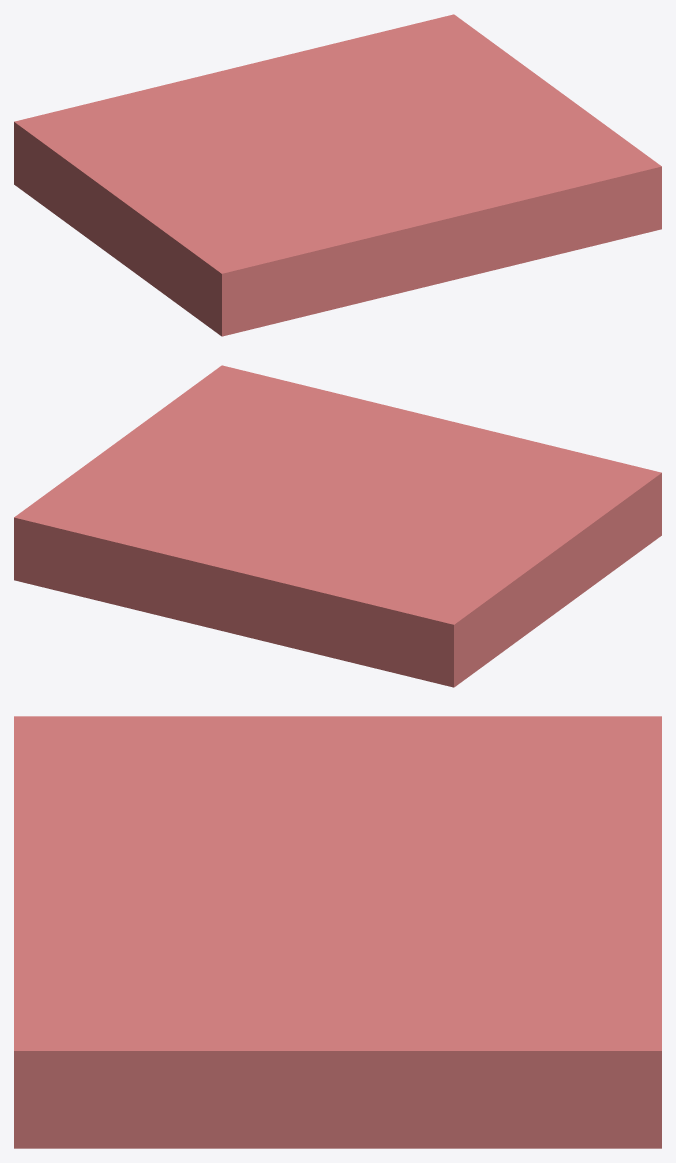
The model's file is carpaccio.glb.
The picture shows the model from 3 angles, top to bottom: view 1: azimuth 30°, elevation 25°; view 2: azimuth 150°, elevation 25°; view 3: azimuth 270°, elevation 25°; orthographic projection. The views are drawn at different scales.
Visible parts, largest first — view 1: Dish; view 2: Dish; view 3: Dish.
Part boxes in pixels (x1,y1,x2,y2): Dish: [14, 14, 661, 336]; Dish: [14, 365, 661, 687]; Dish: [14, 716, 661, 1148].
Size of the model in its own units: 0.22 by 0.03 by 0.18.
